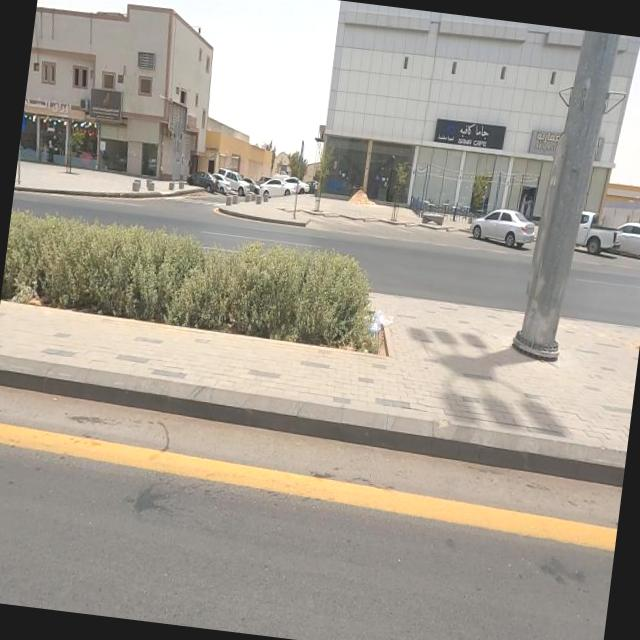debris: (340, 275, 426, 372)
